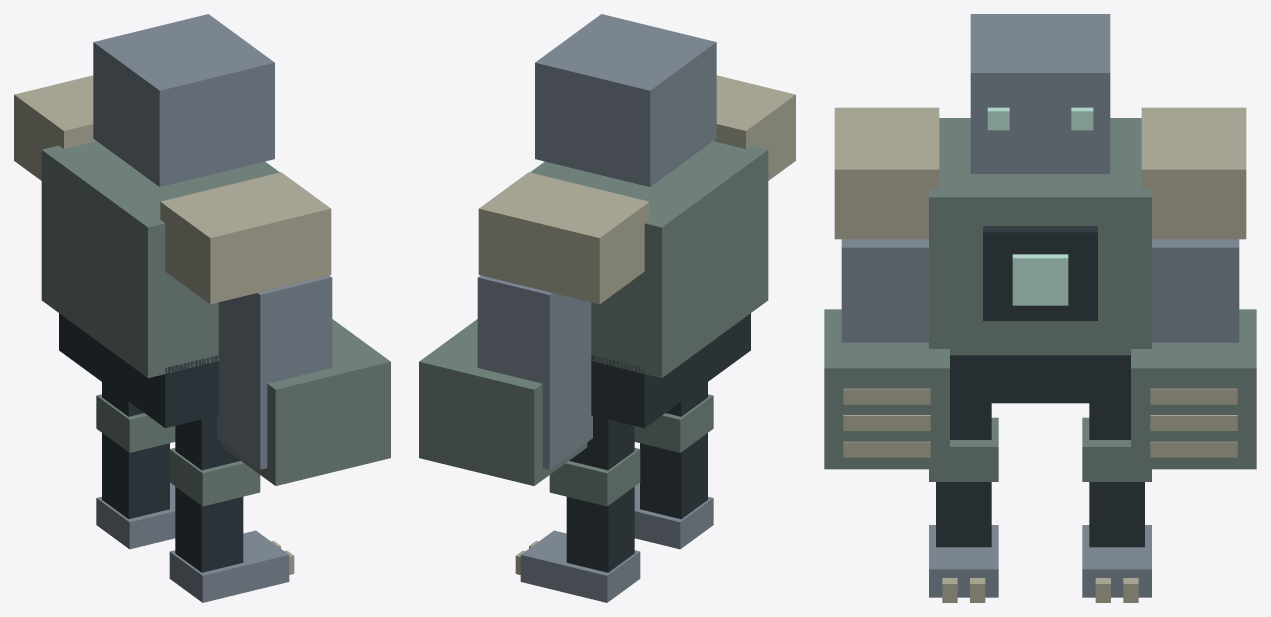
Rendered from hollow-sentry.glb.
3 renders of one model, left to right at view 1: azimuth 30°, elevation 25°; view 2: azimuth 150°, elevation 25°; view 3: azimuth 270°, elevation 25°, orthographic. The views are drawn at different scales.
Visible parts, largest first — view 1: Chest, Head, Shoulders, Gauntlets, Arms, Legs, Hips, Feet, Joints; view 2: Chest, Head, Shoulders, Gauntlets, Arms, Legs, Hips, Feet, Joints; view 3: Chest, Shoulders, Gauntlets, Head, Arms, Legs, Hips, KnuckleBands, CoreSocket, Feet, Joints, Core (+2 smaller).
Boxes of the visible parts, x1,y1,x2,y2 form: Chest: [41, 141, 279, 378]; Head: [93, 14, 274, 186]; Shoulders: [14, 75, 331, 304]; Gauntlets: [222, 319, 390, 485]; Arms: [217, 275, 332, 469]; Legs: [102, 382, 243, 572]; Hips: [59, 313, 218, 428]; Feet: [96, 483, 289, 602]; Joints: [96, 394, 260, 506]; Chest: [530, 141, 768, 378]; Head: [535, 14, 716, 186]; Shoulders: [478, 75, 795, 304]; Gauntlets: [419, 319, 587, 485]; Arms: [477, 275, 592, 469]; Legs: [566, 382, 707, 572]; Hips: [591, 313, 750, 428]; Feet: [520, 483, 713, 602]; Joints: [549, 394, 713, 506]; Chest: [929, 118, 1151, 355]; Shoulders: [834, 107, 1246, 239]; Gauntlets: [824, 309, 1256, 469]; Head: [970, 14, 1110, 173]; Arms: [841, 239, 1239, 342]; Legs: [936, 403, 1144, 547]; Hips: [950, 355, 1130, 403]; KnuckleBands: [843, 388, 1237, 457]; CoreSocket: [983, 226, 1097, 320]; Feet: [929, 525, 1151, 597]; Joints: [929, 417, 1151, 481]; Core: [1012, 254, 1068, 305].
Size of the model in its own units: 3.38 by 8.35 by 6.2.
